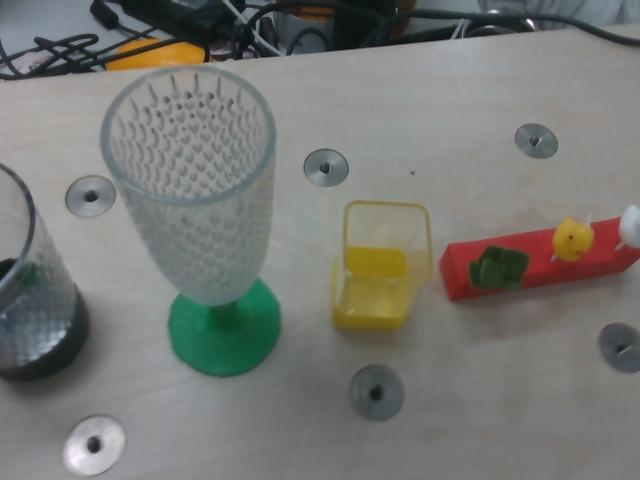black_cup: (0, 257, 90, 382)
green_cup: (167, 274, 283, 377)
leaf: (468, 243, 529, 295)
w_duck: (619, 204, 640, 251)
y_duck: (552, 219, 595, 265)
yellow_cup: (329, 245, 415, 333)
